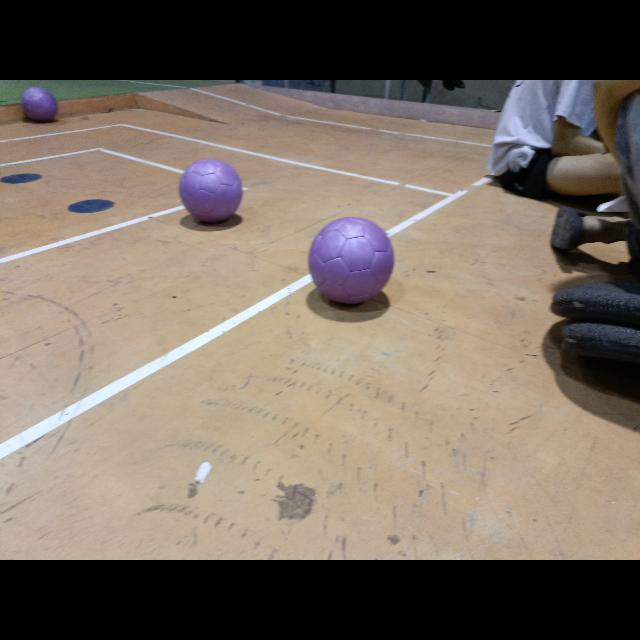P: (308, 216, 394, 304), (180, 160, 242, 222), (21, 86, 57, 122)
